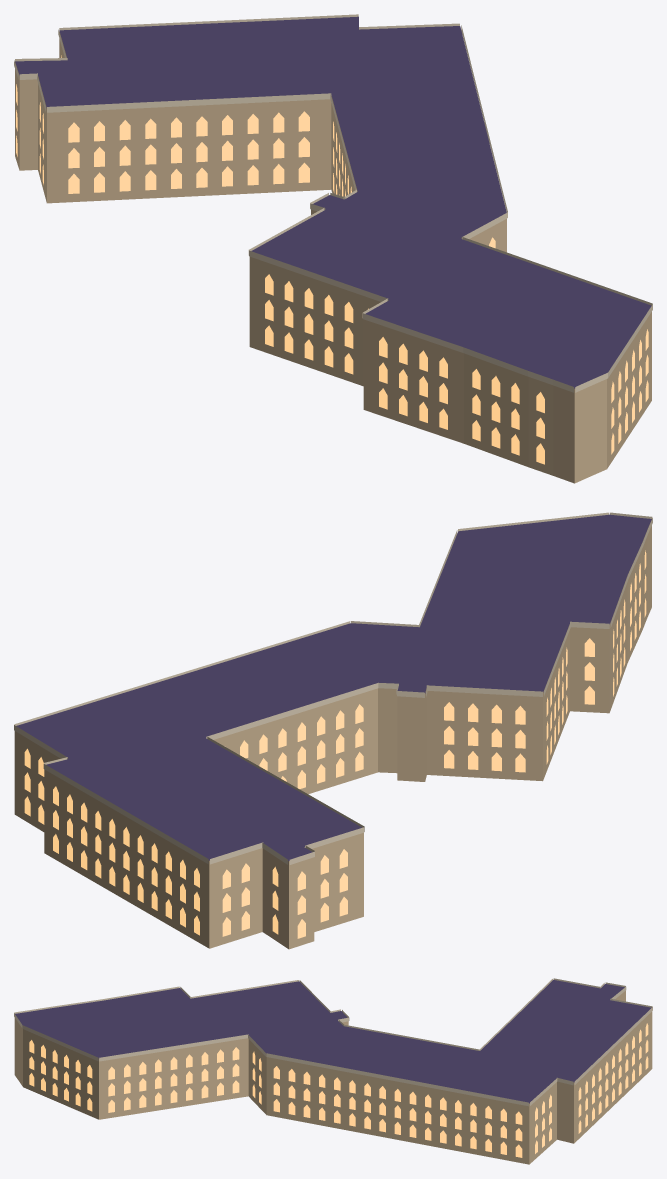
File: core-chemistry-building.glb
3 renders of one model, top to bottom at view 1: azimuth 30°, elevation 25°; view 2: azimuth 150°, elevation 25°; view 3: azimuth 270°, elevation 25°, orthographic. The views are drawn at different scales.
Parts seen in each view (by area): view 1: campus/core-chemistry-building-0; view 2: campus/core-chemistry-building-0; view 3: campus/core-chemistry-building-0.
Boxes of the visible parts, bbox=[...] form: campus/core-chemistry-building-0: bbox=[14, 14, 652, 483]; campus/core-chemistry-building-0: bbox=[14, 512, 652, 949]; campus/core-chemistry-building-0: bbox=[14, 978, 652, 1164].
Bounding box in the file's own units: 53.28 × 12.45 × 116.
